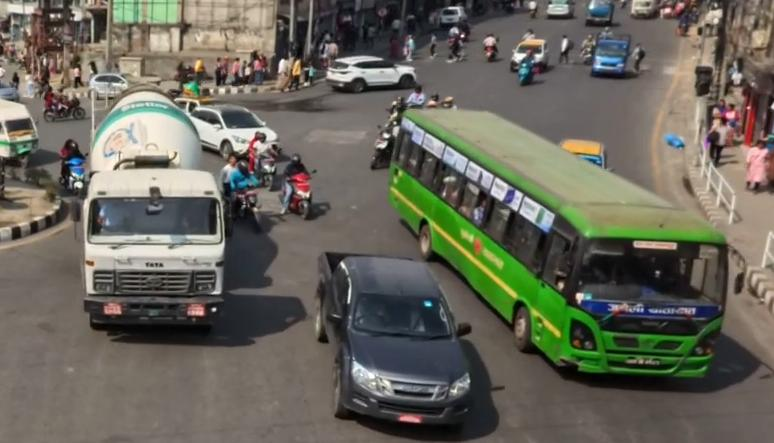bus: (387, 104, 744, 392)
